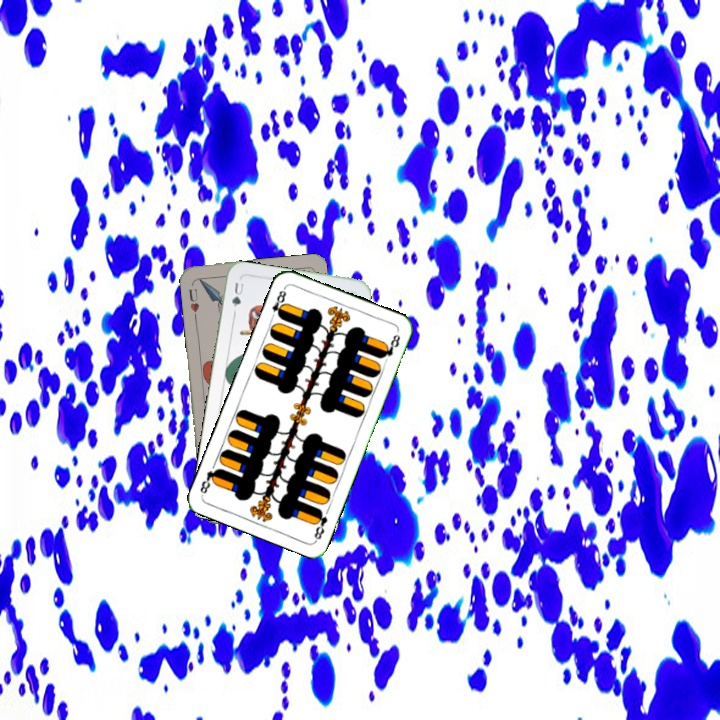E8: (267, 283, 289, 322), (310, 505, 330, 543)
GU: (228, 278, 246, 316)
HU: (185, 284, 201, 320)
